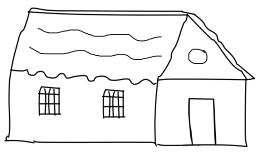big_house: (0, 0, 260, 155)
closed_window: (98, 85, 128, 123), (36, 84, 64, 119)
door: (181, 93, 227, 150)
roof: (4, 4, 255, 86)
wall: (150, 73, 250, 152)
